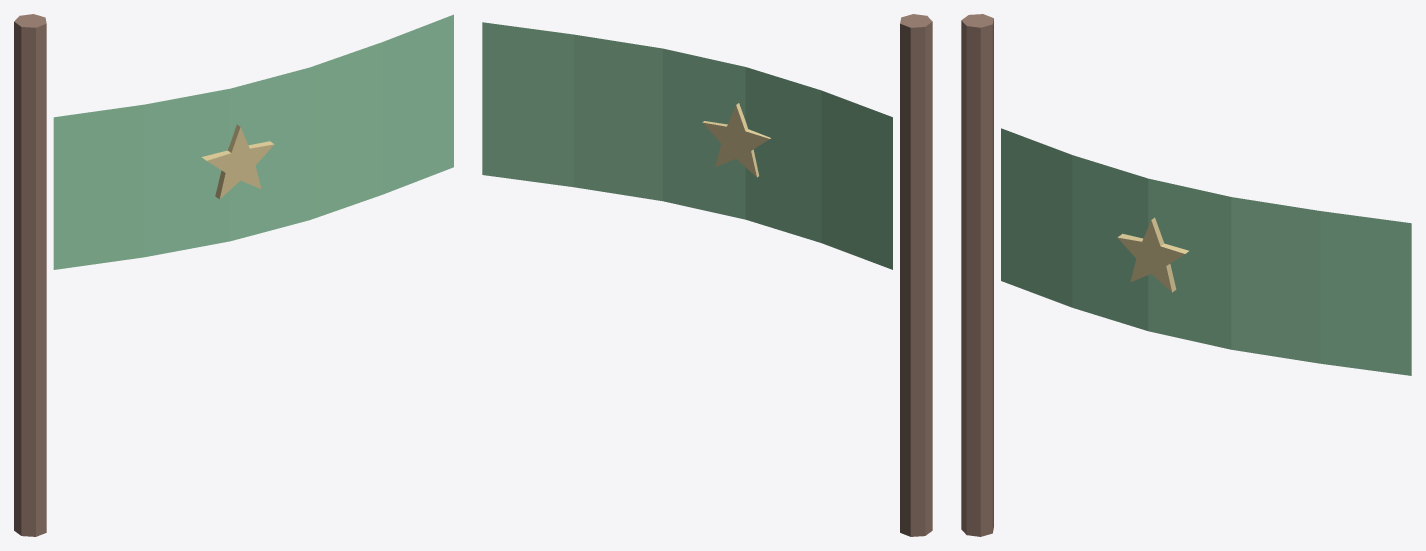
The model's file is bandera_verde.glb.
3 views of the same model, side by side, from view 1: azimuth 30°, elevation 25°; view 2: azimuth 150°, elevation 25°; view 3: azimuth 330°, elevation 25° (orthographic).
Parts seen in each view (by area): view 1: bandera_verde; view 2: bandera_verde; view 3: bandera_verde.
Boxes of the visible parts, <box> form: bandera_verde: <box>14,14,453,536</box>; bandera_verde: <box>482,14,932,536</box>; bandera_verde: <box>961,14,1411,536</box>.
Bounding box in the file's own units: 1.36 × 1.5 × 0.1414.
